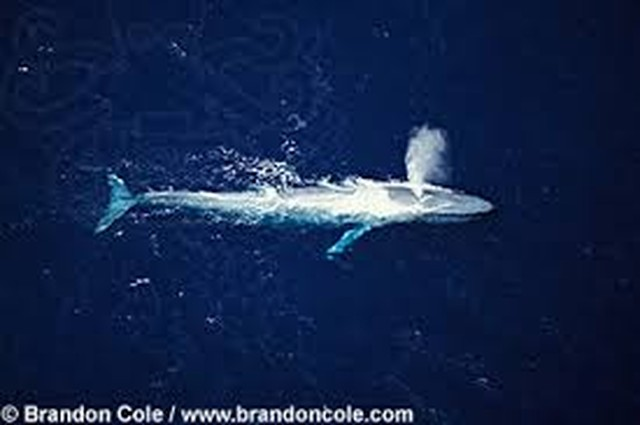whale: (85, 153, 503, 265)
